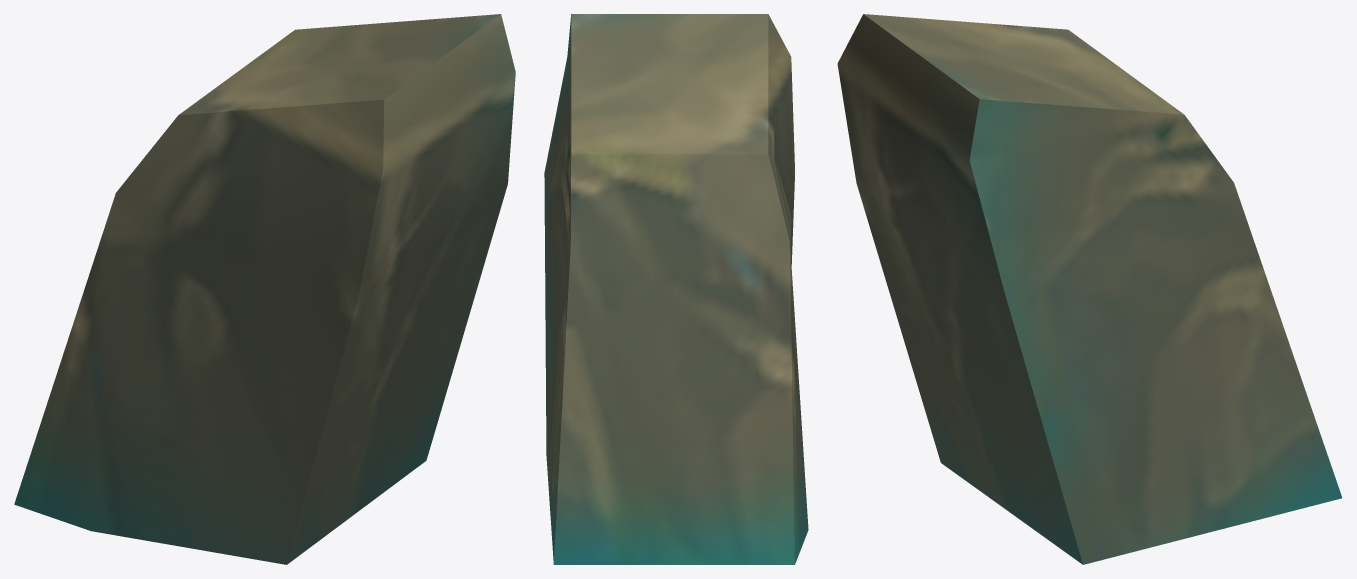
The model's file is scenes_beach_rock02c.FBX.
3 views of the same model, side by side, from view 1: azimuth 30°, elevation 25°; view 2: azimuth 150°, elevation 25°; view 3: azimuth 270°, elevation 25° (orthographic). The views are drawn at different scales.
Parts seen in each view (by area): view 1: scenes_beach_rock02c; view 2: scenes_beach_rock02c; view 3: scenes_beach_rock02c.
Part boxes in pixels (x1=…): scenes_beach_rock02c: x1=14, y1=14, x2=515, y2=564; scenes_beach_rock02c: x1=544, y1=14, x2=808, y2=564; scenes_beach_rock02c: x1=837, y1=14, x2=1342, y2=564.
Size of the model in its own units: 268 by 311 by 298.
